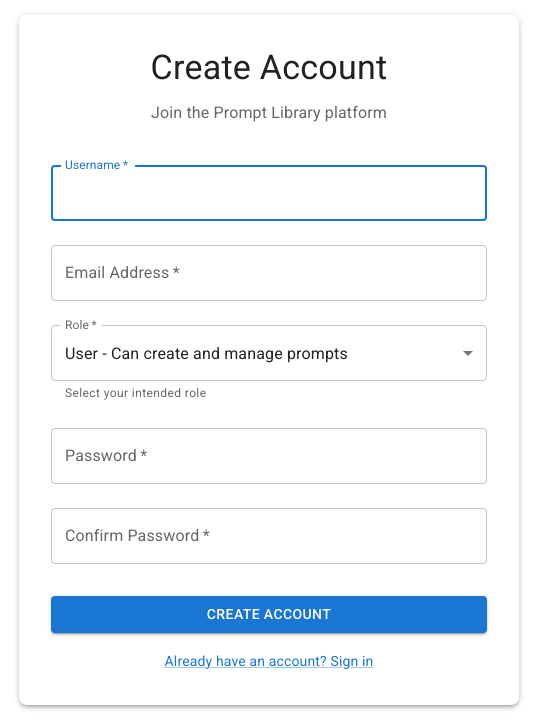
Test: RegisterPage › shows validation errors for empty fields
What coordinates should you click on to do the following:
click the button "Create Account"
I would click on:
 (269, 614)
Its box is [51, 596, 487, 633].
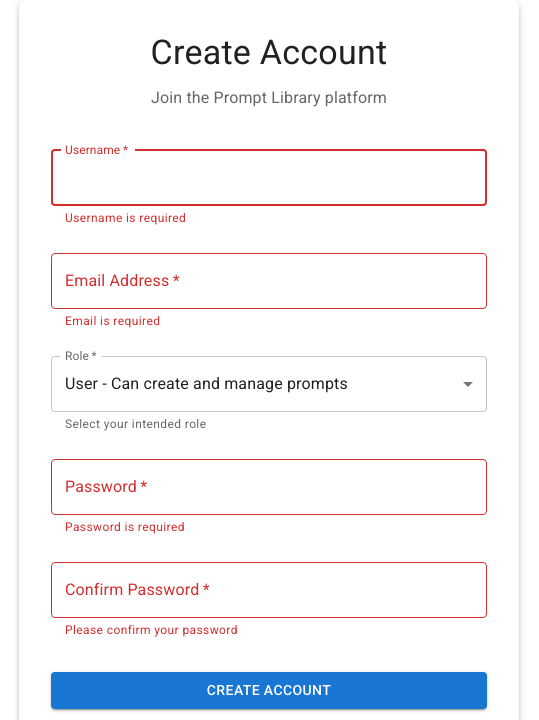
Expected: the text "Username is required" is shown, [65, 211, 186, 225]
Expected: the text "Email is required" is shown, [65, 314, 160, 328]
Expected: the text "Password is required" is shown, [65, 520, 185, 534]
